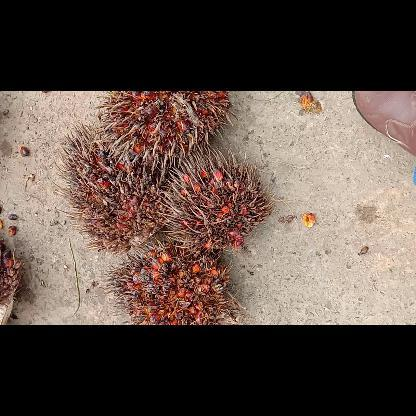Terlalu masak: (54, 120, 178, 256), (158, 146, 278, 260), (97, 234, 244, 324), (92, 90, 235, 172)
